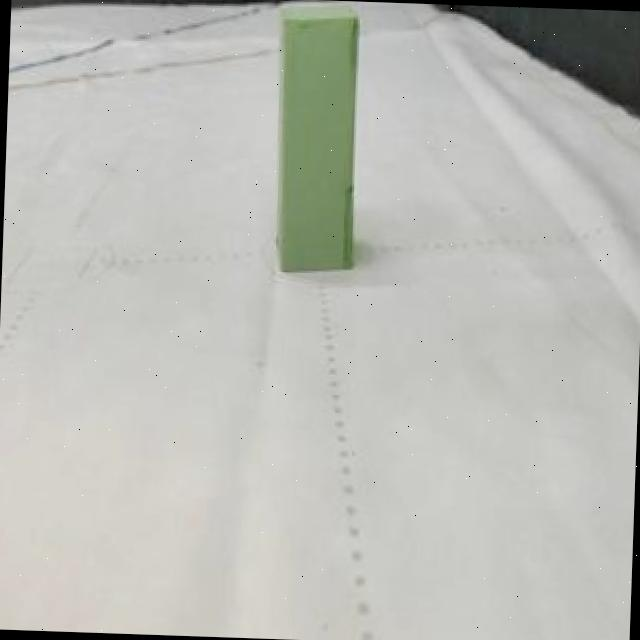greenbox: (272, 0, 365, 276)
